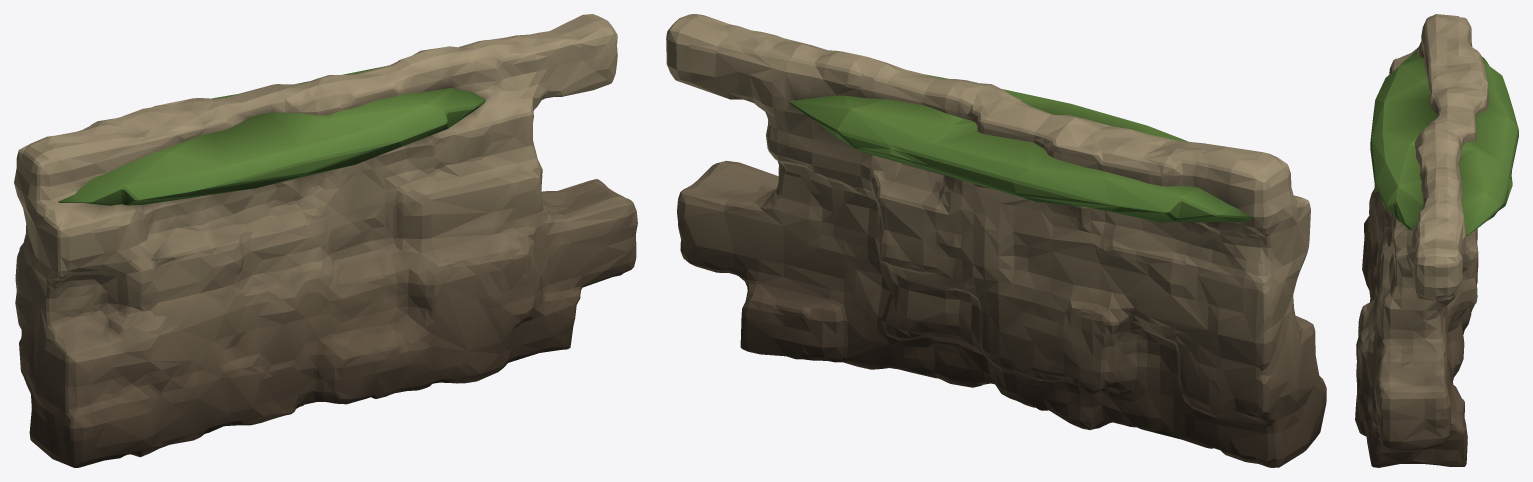
The model's file is klif.glb.
The picture shows the model from 3 angles, left to right: view 1: azimuth 30°, elevation 25°; view 2: azimuth 150°, elevation 25°; view 3: azimuth 270°, elevation 25°; orthographic projection. The views are drawn at different scales.
Visible parts, largest first — view 1: klif_0; view 2: klif_0; view 3: klif_0.
Part boxes in pixels (<box>): klif_0: <box>14,14,637,467</box>; klif_0: <box>666,14,1326,467</box>; klif_0: <box>1355,14,1518,467</box>.
Size of the model in its own units: 2.55 by 1.23 by 0.7178.
